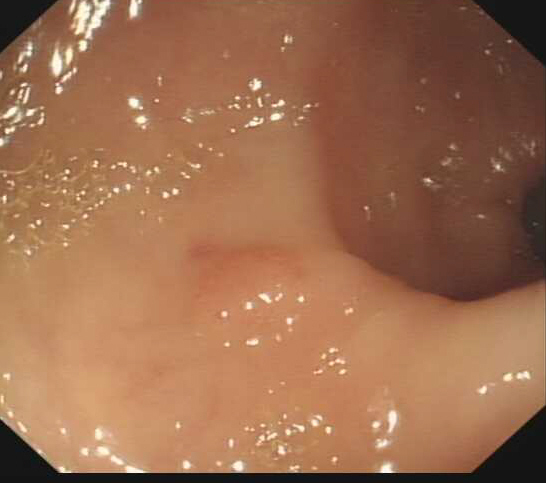adenoma: (192, 242, 361, 332)
